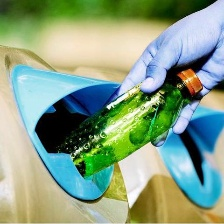bottle: (39, 64, 210, 180)
